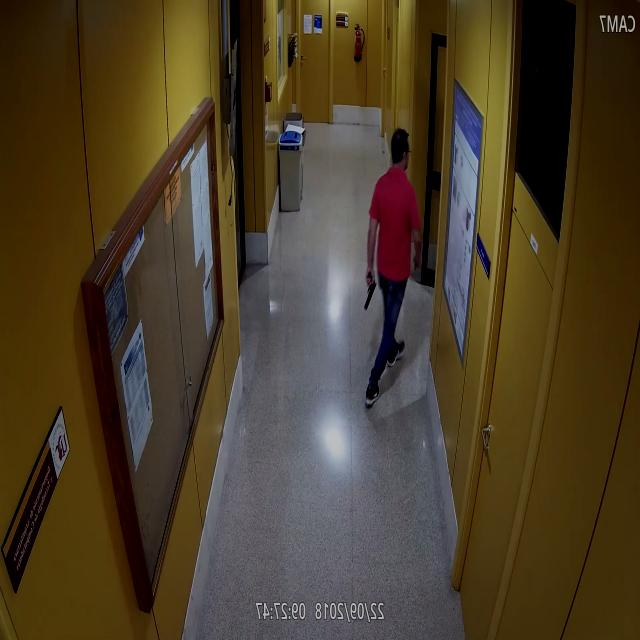pistol: (363, 264, 378, 311)
